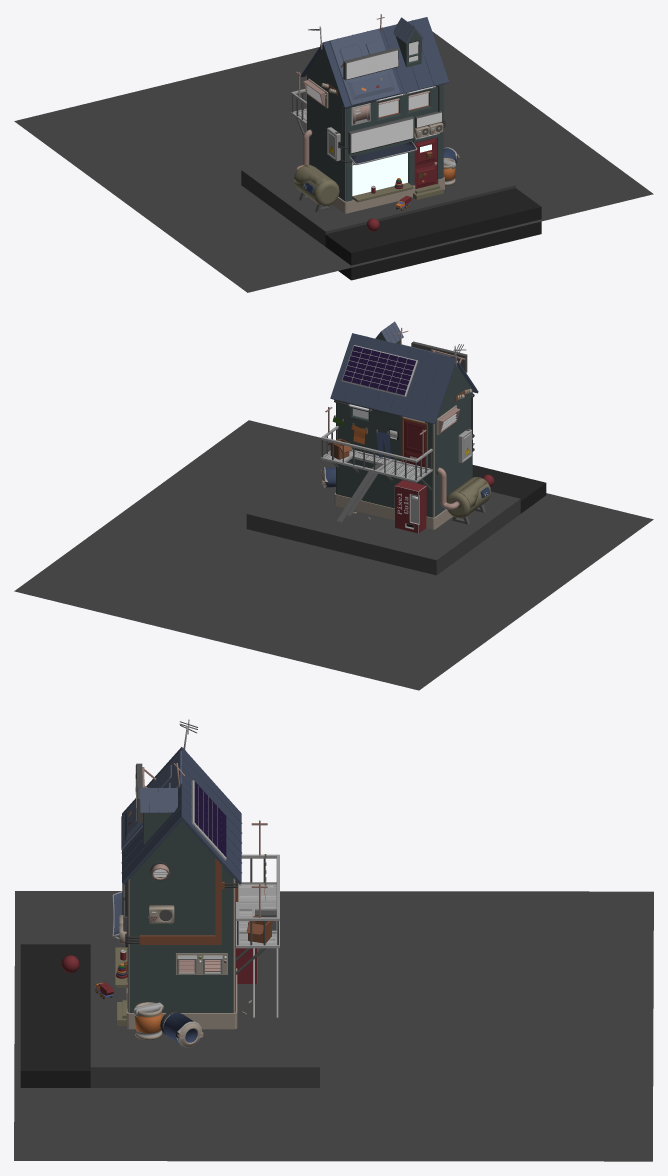
File: building3.fbx
The picture shows the model from 3 angles, top to bottom: view 1: azimuth 30°, elevation 25°; view 2: azimuth 150°, elevation 25°; view 3: azimuth 270°, elevation 25°; orthographic projection. The views are drawn at different scales.
Visible parts, largest first — view 1: Plane.070; view 2: Plane.070; view 3: Plane.070.
Part boxes in pixels (left/top/right/bottom): Plane.070: left=14, top=14, right=653, bottom=292; Plane.070: left=14, top=321, right=653, bottom=690; Plane.070: left=14, top=719, right=653, bottom=1161.
Size of the model in its own units: 3005 by 1433 by 3005.
Materials: 32 (2 with a texture image).
